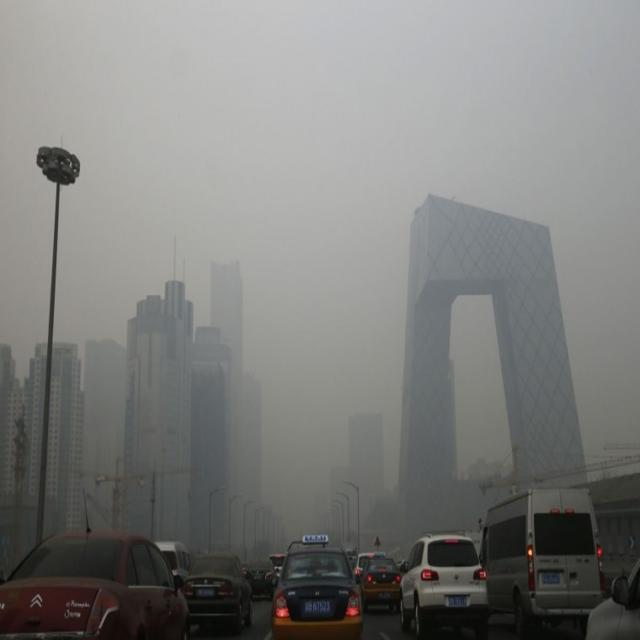car: (2, 528, 188, 639), (479, 486, 606, 628), (398, 531, 488, 638), (268, 547, 364, 639), (185, 552, 252, 634), (590, 538, 636, 634), (356, 553, 404, 613), (244, 560, 278, 597)
